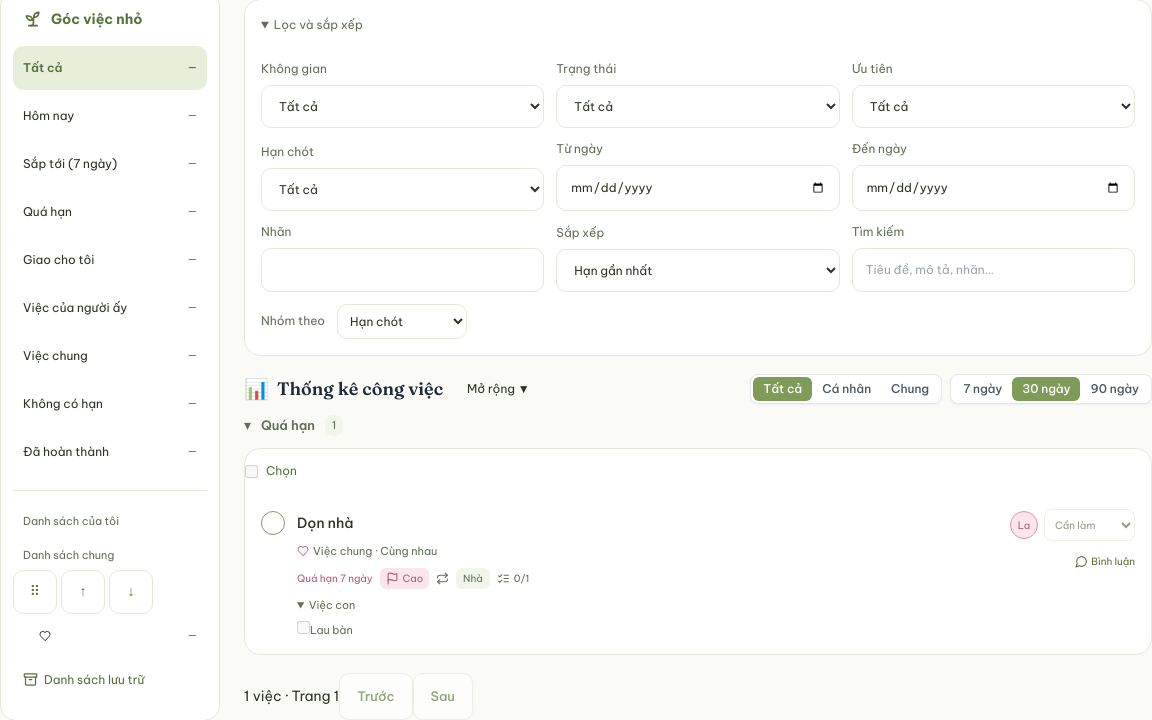
Test: archived không có nút thêm/sửa/xóa, checkbox và status bị khóa
The width and height of the screenshot is (1152, 720).
(page scrolled)
expect the heading "Dọn nhà" is shown: met, box 297,511 -> 353,534
expect the checkbox named "Dọn nhà: Lau bàn" is disabled: met, box 297,620 -> 310,633
Step 1. Click the button "Bình luận" → (1105, 560), box 1075,546 -> 1135,574
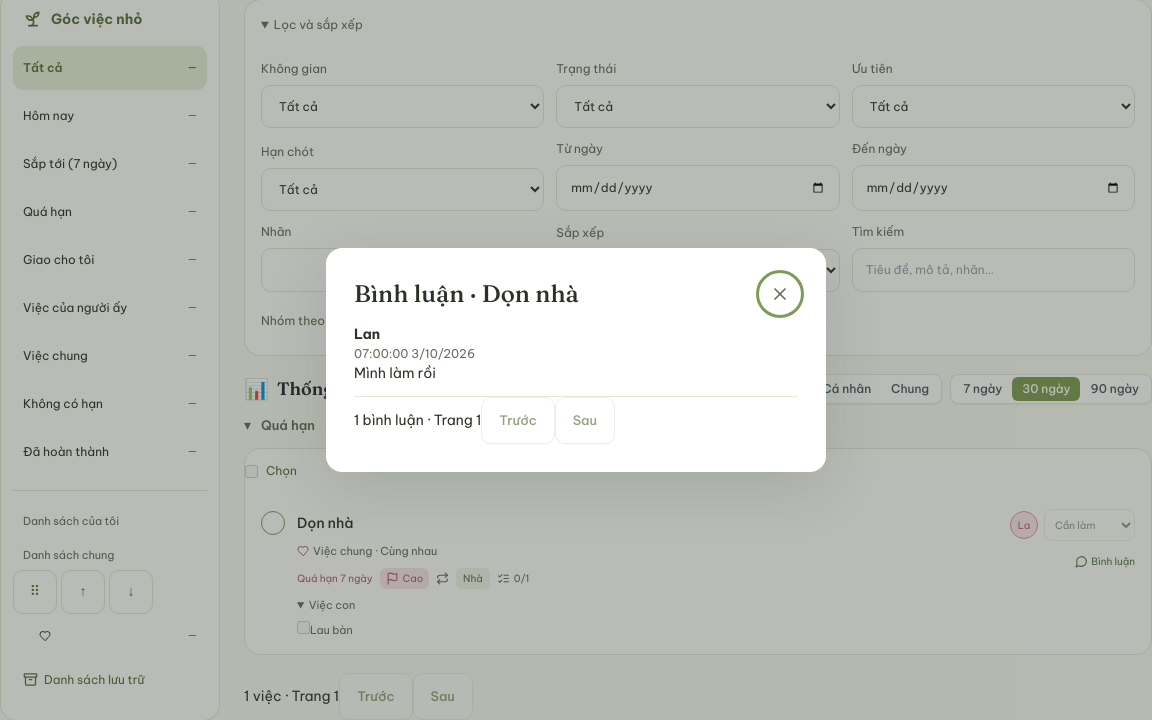
expect the text "Mình làm rồi" is shown: met, box 354,364 -> 436,382
